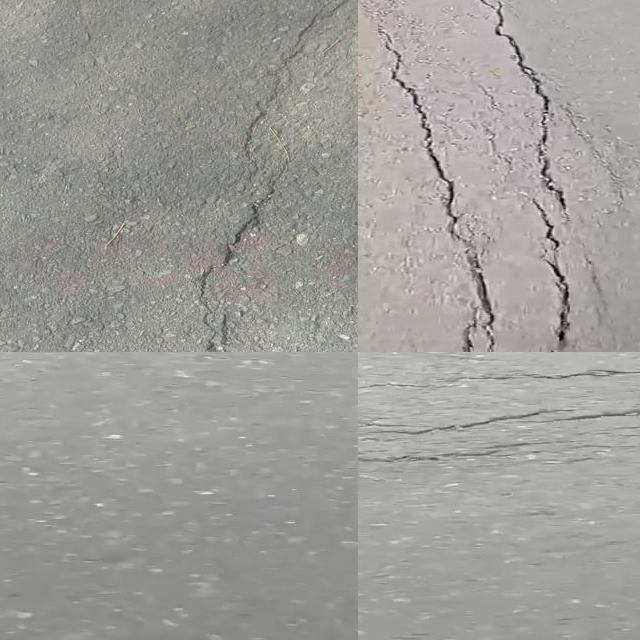Melintang: (358, 434, 617, 474)
Memanjang: (189, 0, 358, 352), (364, 16, 510, 352), (476, 0, 586, 352)
